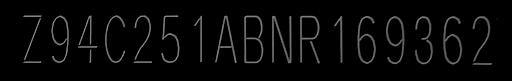letter: (295, 11, 323, 66), (267, 12, 295, 67), (211, 13, 239, 66), (158, 12, 184, 67), (440, 13, 466, 68), (470, 14, 496, 69), (240, 12, 266, 65), (102, 13, 128, 66), (20, 11, 44, 66), (354, 13, 378, 68), (382, 14, 406, 69), (75, 12, 99, 65), (48, 13, 72, 64), (131, 13, 153, 66), (412, 15, 434, 68), (328, 13, 346, 66), (190, 13, 206, 66)
